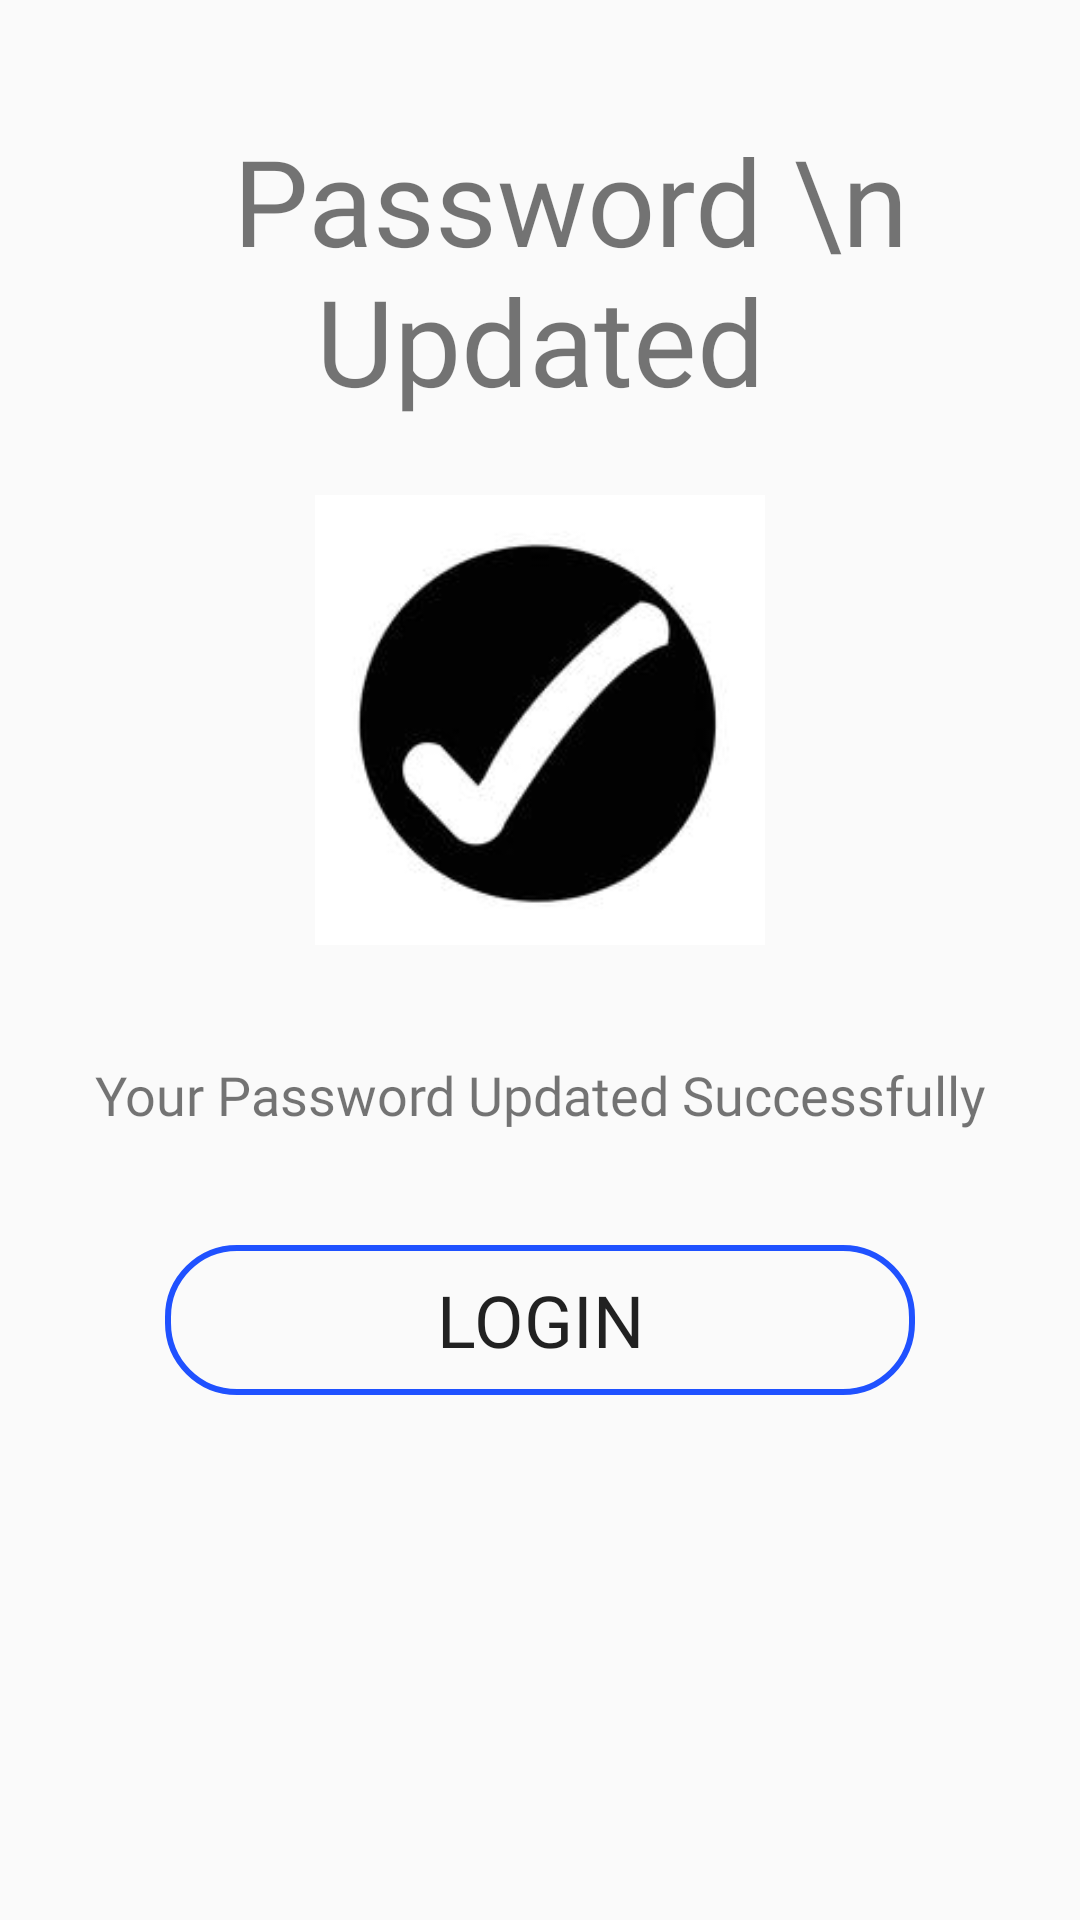

Icon click points for this 1080*1920 phone screenshot, format (x,y):
right: (537,723)
